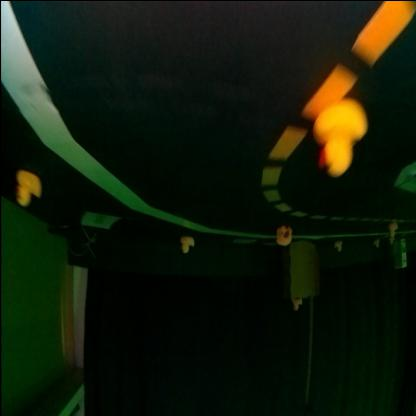Duckie: (315, 101, 365, 175), (17, 170, 41, 206), (276, 226, 292, 245), (180, 237, 194, 253), (292, 298, 302, 310), (390, 223, 398, 236), (335, 240, 342, 251)
QR code: (233, 238, 256, 245)
